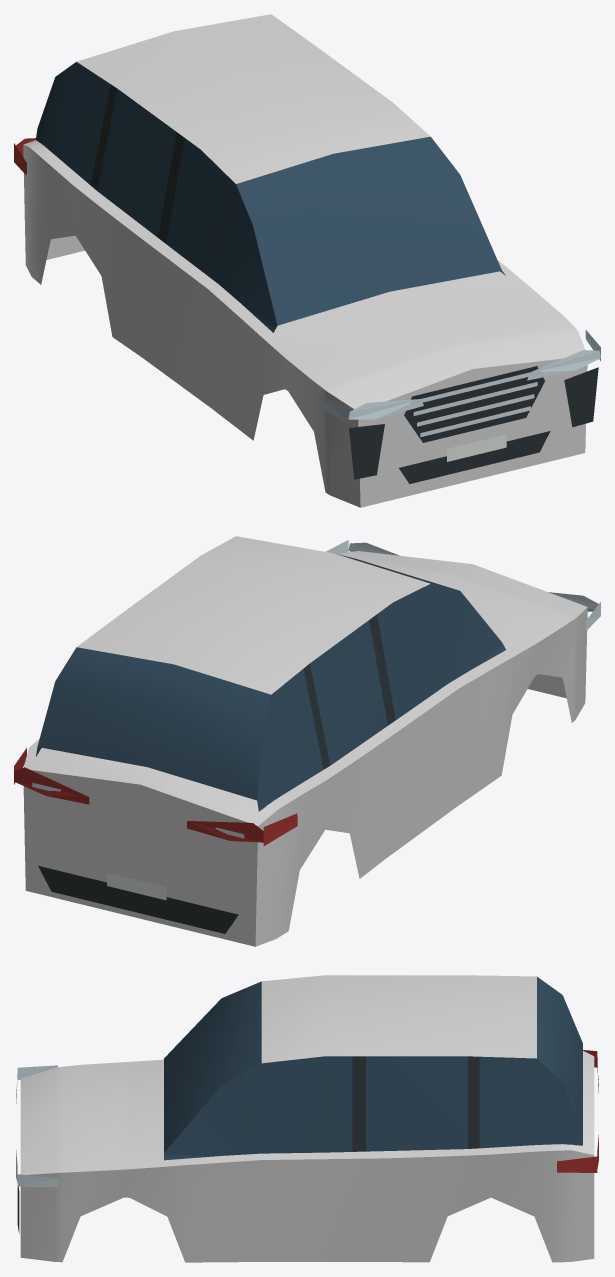
File: veh_fortuner-lod2.glb
The picture shows the model from 3 angles, top to bottom: view 1: azimuth 30°, elevation 25°; view 2: azimuth 150°, elevation 25°; view 3: azimuth 270°, elevation 25°; orthographic projection. The views are drawn at different scales.
Parts seen in each view (by area): view 1: paint, glass, trim, head, chrome, plate; view 2: paint, glass, trim, tail, head, plate, chrome; view 3: paint, glass, trim, head, tail.
Part boxes in pixels (<box>): paint: <box>23,14,587,507</box>; glass: <box>36,62,505,332</box>; trim: <box>90,84,598,484</box>; head: <box>317,330,600,423</box>; chrome: <box>410,369,540,437</box>; plate: <box>447,434,506,461</box>; paint: <box>23,536,587,946</box>; glass: <box>36,554,505,811</box>; trim: <box>38,614,395,933</box>; tail: <box>14,748,297,845</box>; head: <box>325,540,600,630</box>; plate: <box>107,873,166,900</box>; chrome: <box>32,782,244,838</box>; paint: <box>20,975,594,1262</box>; glass: <box>164,977,582,1160</box>; trim: <box>17,1056,479,1233</box>; head: <box>16,1065,57,1186</box>; tail: <box>557,1050,598,1172</box>.
Size of the model in its own units: 1.5 by 1.22 by 3.25.
